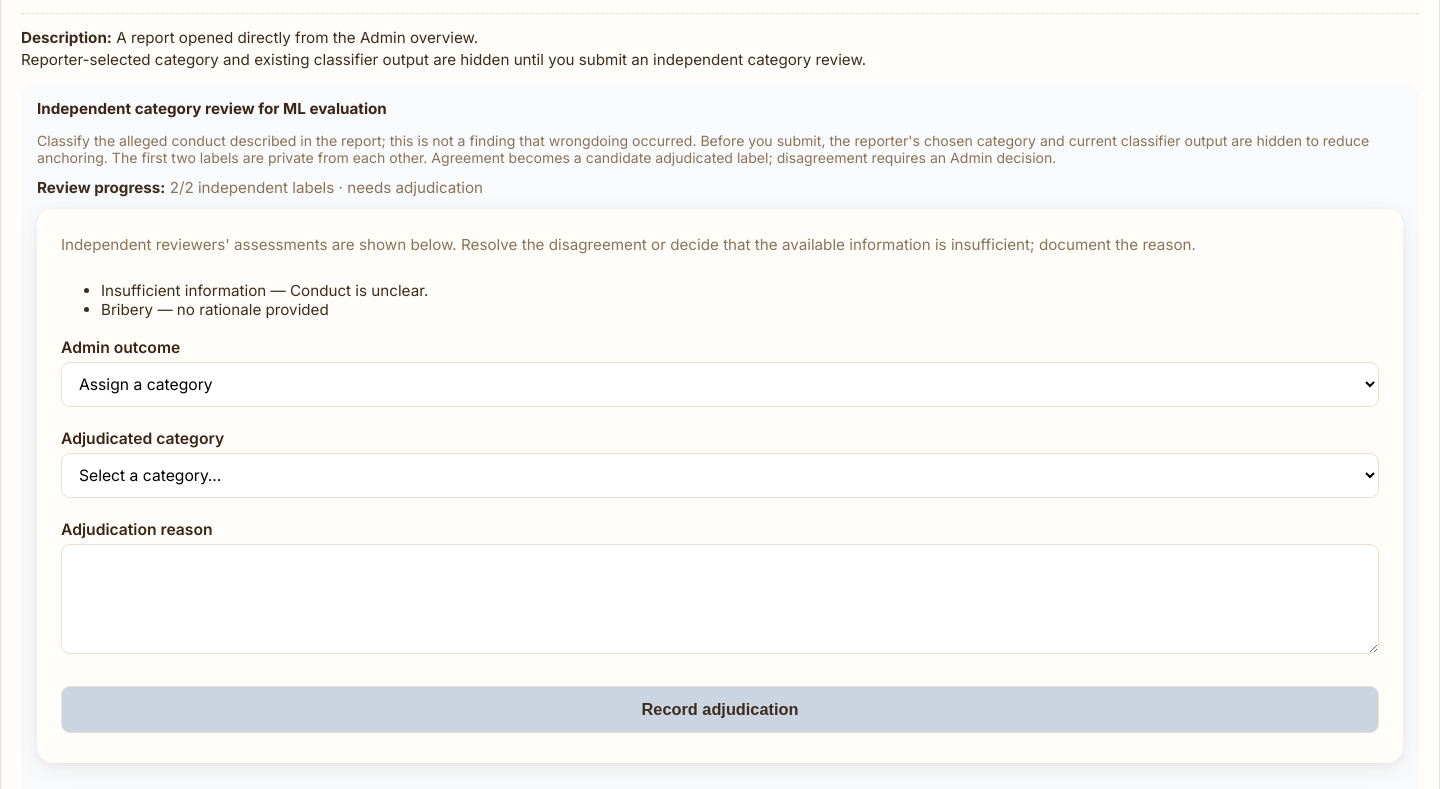
Test case: allows an Admin to adjudicate a disagreement as insufficient information
(page scrolled)
Expected: the list item "Insufficient information — Conduct is unclear." is shown, 101,281 -> 428,300
Select "Insufficient information to classify" in the dropdown labelled "Admin outcome": (720, 385) 61,362 -> 1379,407
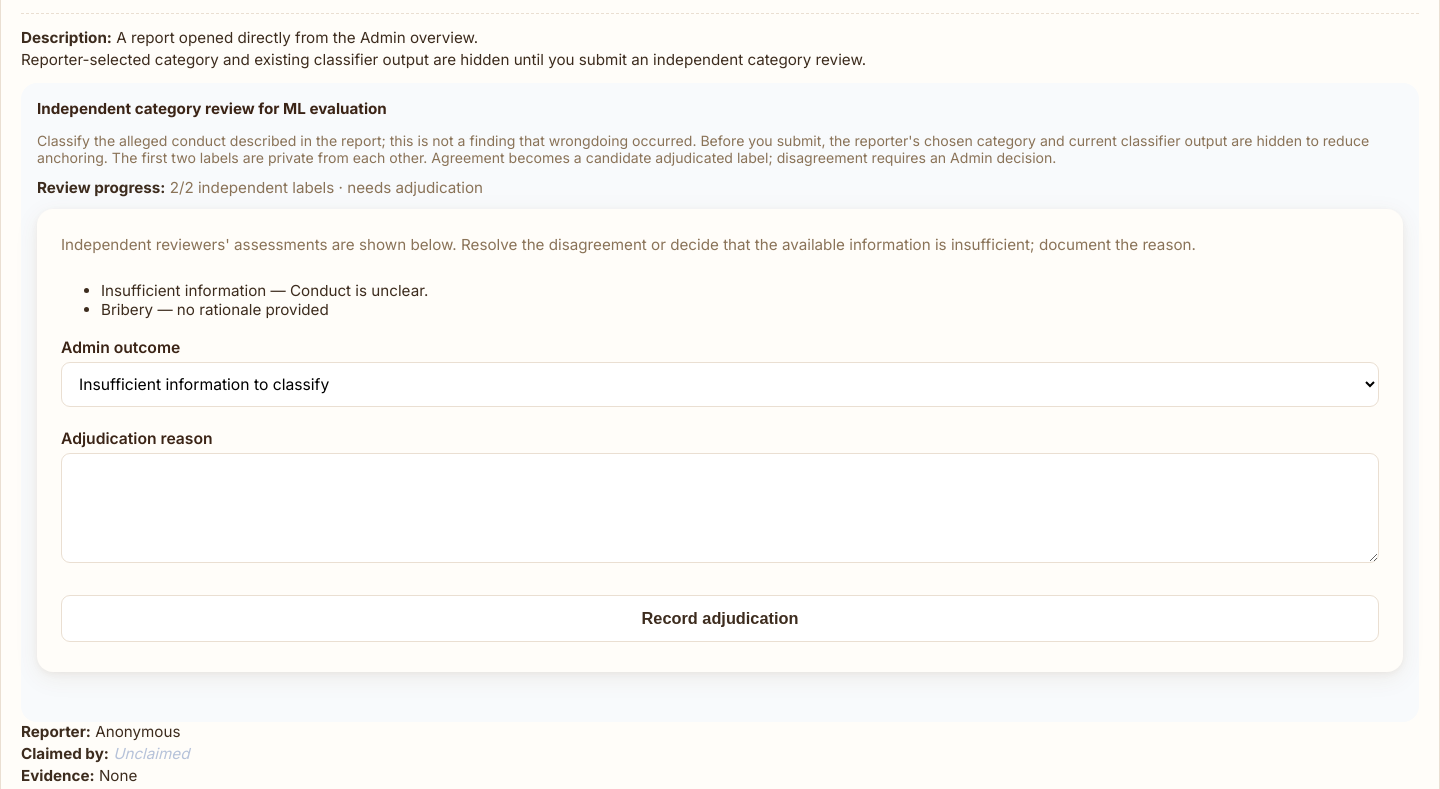
Expected: the label labelled "Adjudicated category" is gone
In the text box labelled "Adjudication reason": (720, 508) 61,453 -> 1379,563, type "There is not enough detail to support the proposed category."
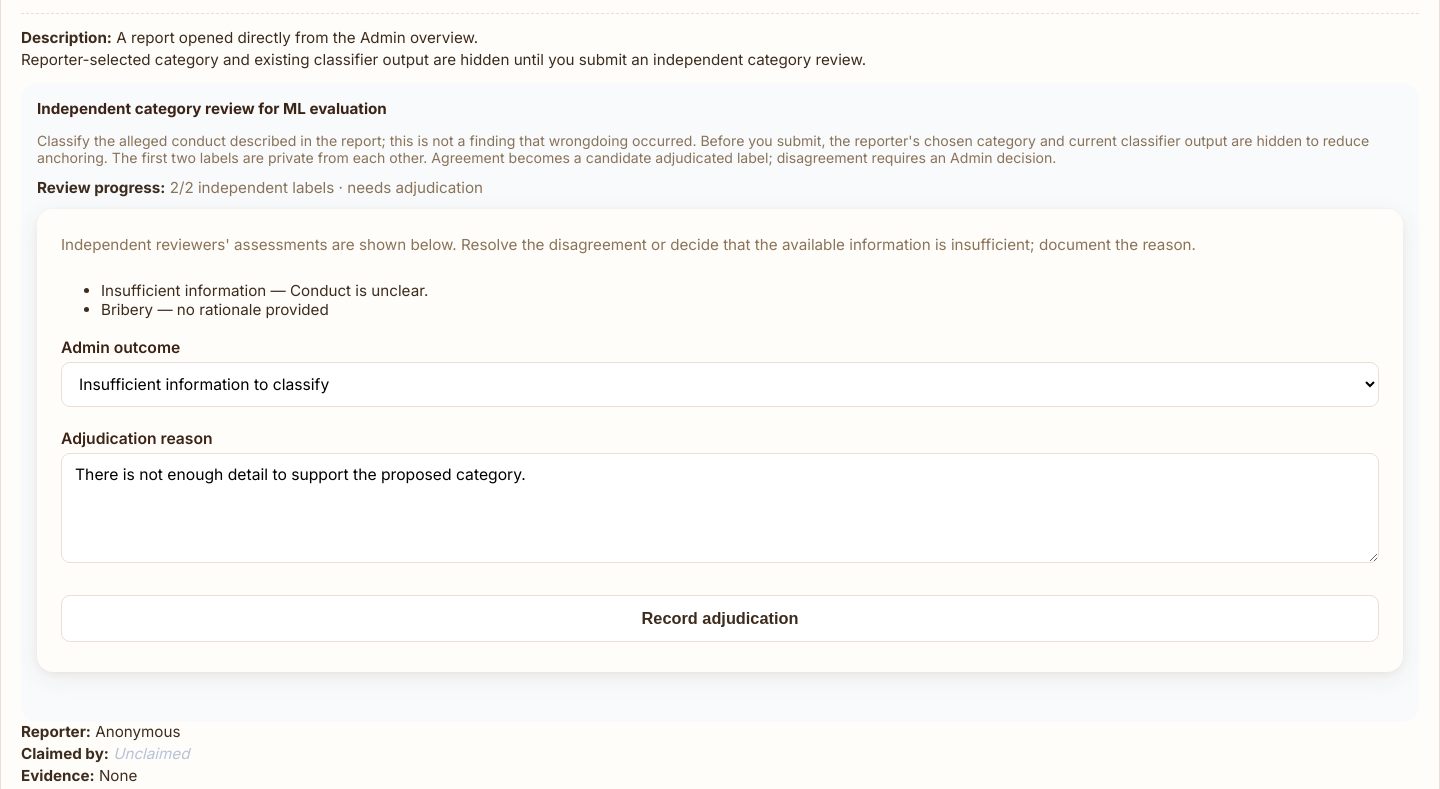
Click the button "Record adjudication": (720, 619) 61,595 -> 1379,642
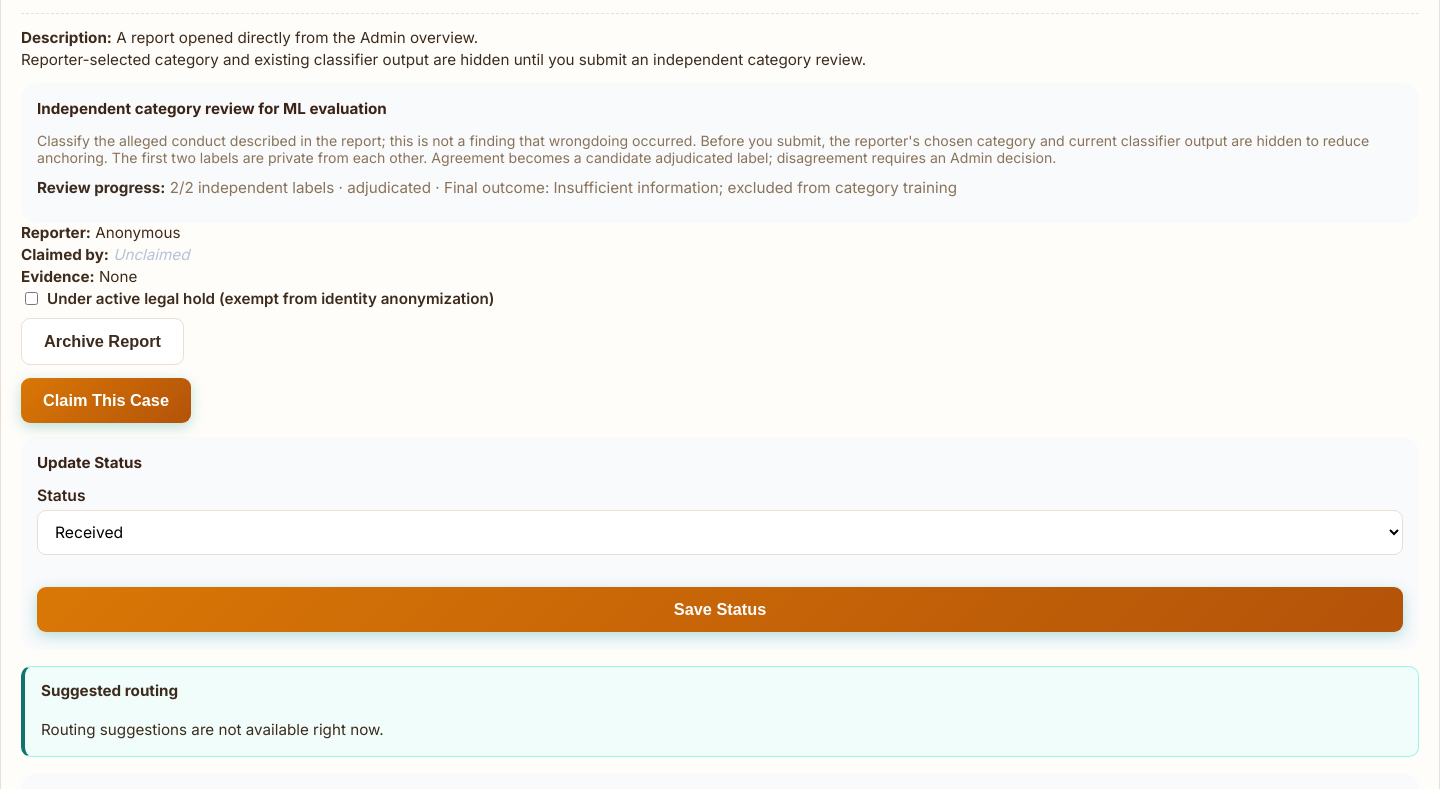
Expected: the text "Final outcome: Insufficient information; excluded from category training" is shown, 431,178 -> 957,197
